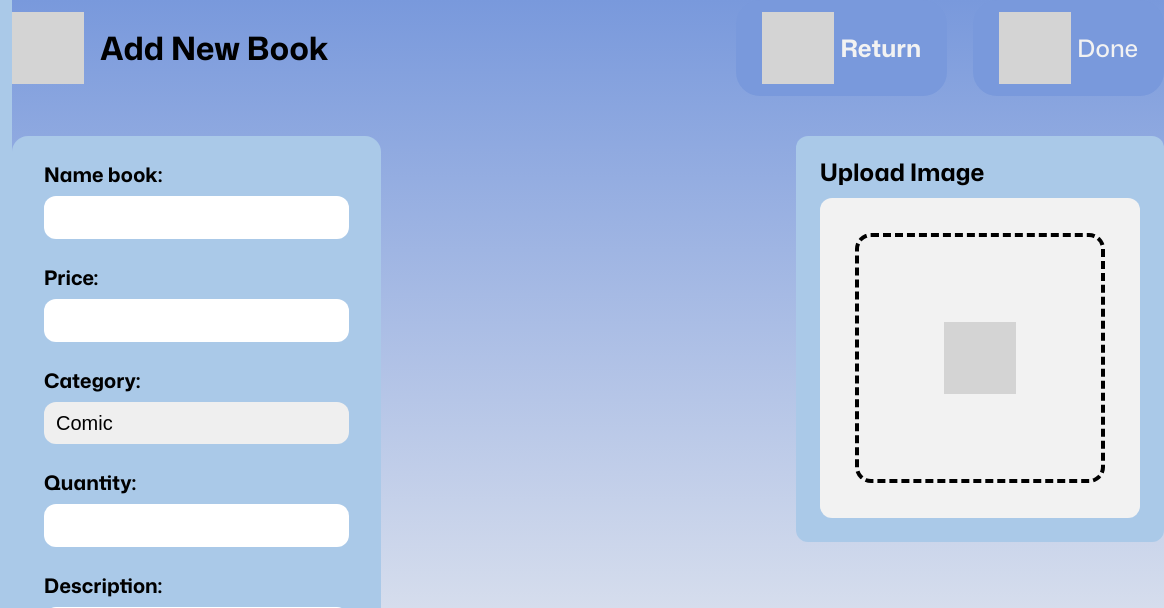
Test CreateBook component › Hien thi loi khi nhap gia sach am
Type "-5" into the number field with test id "input-price".
click(196, 320); type("-5")  # box [44, 299, 349, 342]
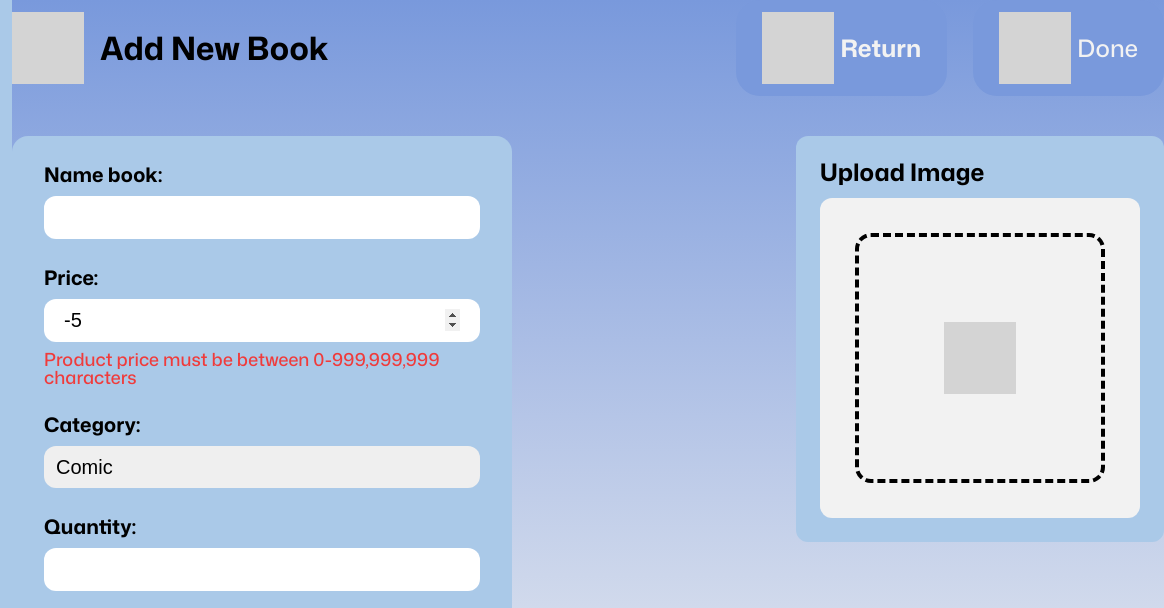
Expected: the text "Product price must be between 0-999,999,999 characters" is shown, [44, 350, 480, 386]
